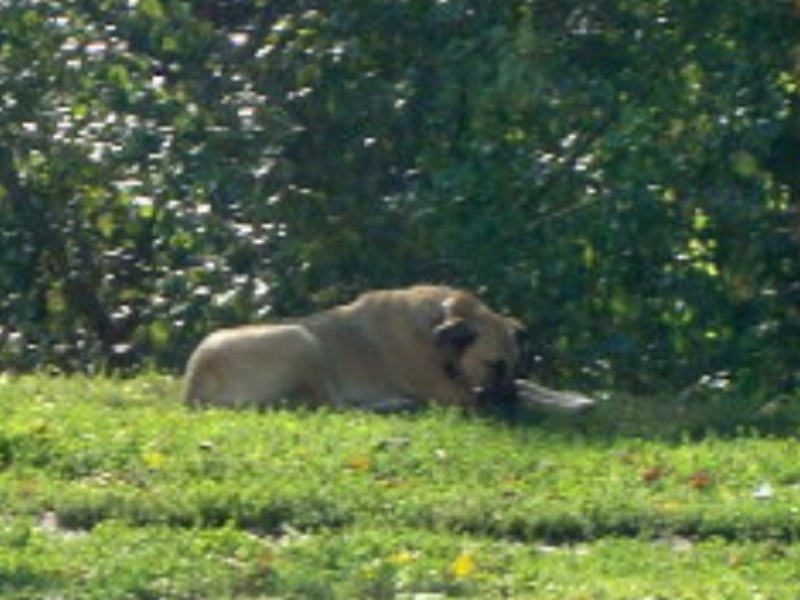dog: (166, 278, 600, 418)
